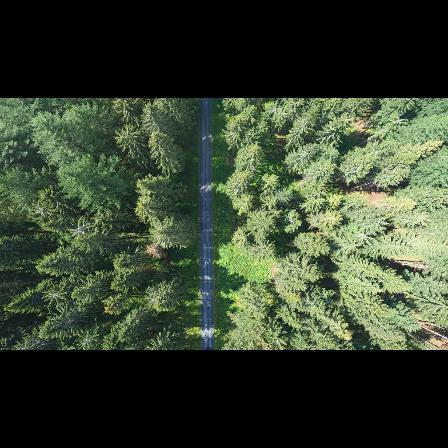Sick: (63, 215, 93, 242), (42, 282, 70, 308), (28, 200, 54, 222), (73, 329, 99, 349), (352, 224, 371, 245)
